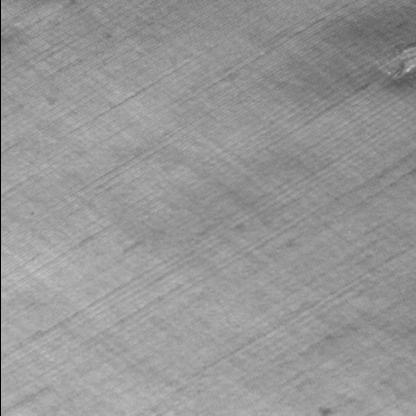hole: (380, 39, 416, 89)
